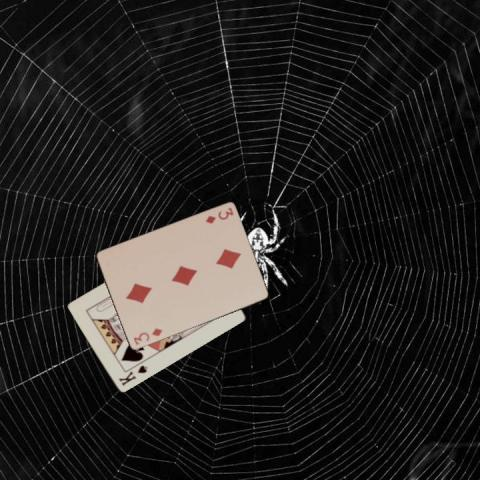3d: (131, 325, 163, 347), (202, 205, 235, 225)
Ks: (116, 362, 149, 387)
